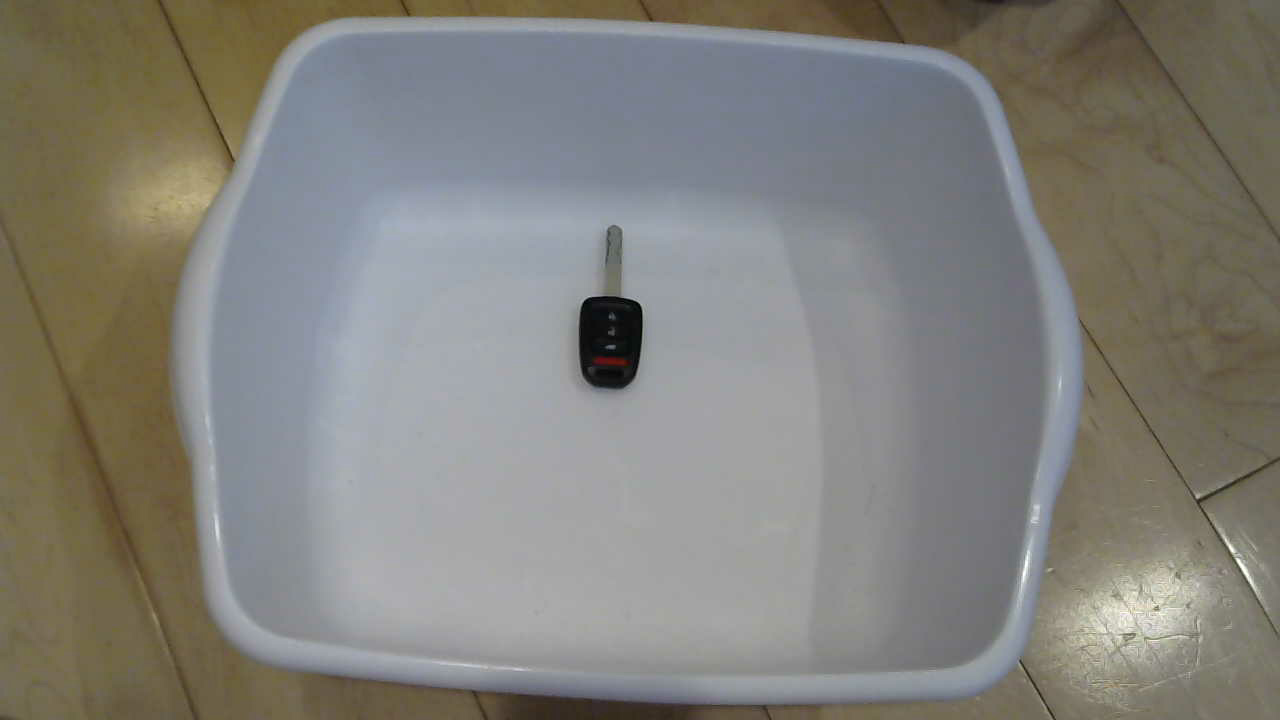key: (550, 213, 674, 418)
